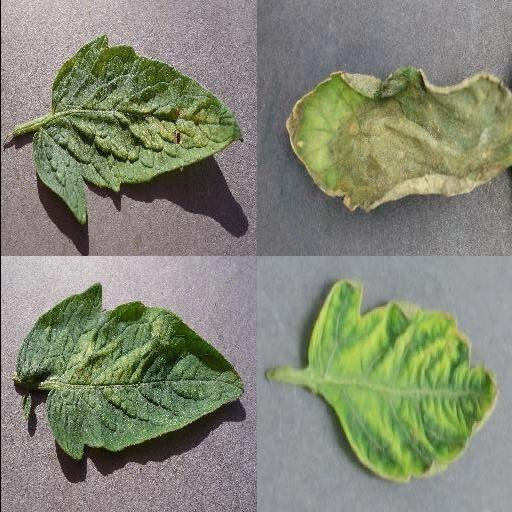Late Blight: (282, 65, 512, 213)
Spider Mites: (31, 35, 245, 223), (16, 284, 244, 460)
Yellow Leaf Curl Virus: (307, 282, 499, 486)
